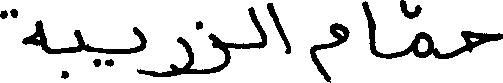X: (311, 18, 348, 82), (148, 32, 193, 81), (0, 4, 43, 54), (195, 16, 229, 78), (461, 26, 502, 57), (268, 0, 289, 58), (413, 0, 432, 62), (250, 2, 266, 53), (363, 0, 375, 60), (134, 22, 146, 79), (74, 25, 84, 57)
